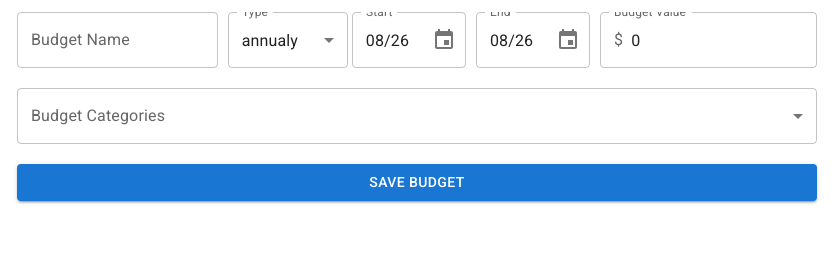
Scenario: BudgetForm › should show required validation messages when submitting empty fields
Click the button "Save Budget": (417, 182) [17, 164, 817, 200]
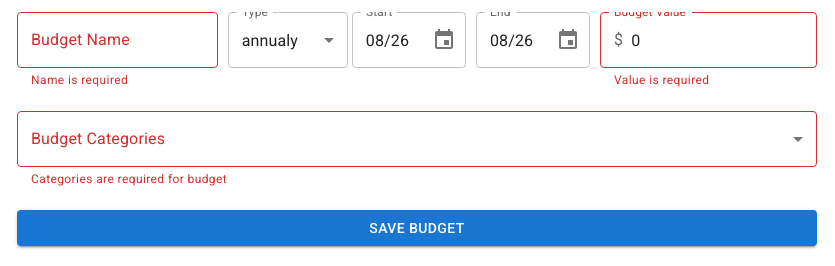
Check: the text "Name is required" is shown, box [31, 73, 128, 87]
Check: the text "Value is required" is shown, box [614, 73, 709, 87]
Check: the text "Categories are required for budget" is shown, box [31, 172, 227, 186]
